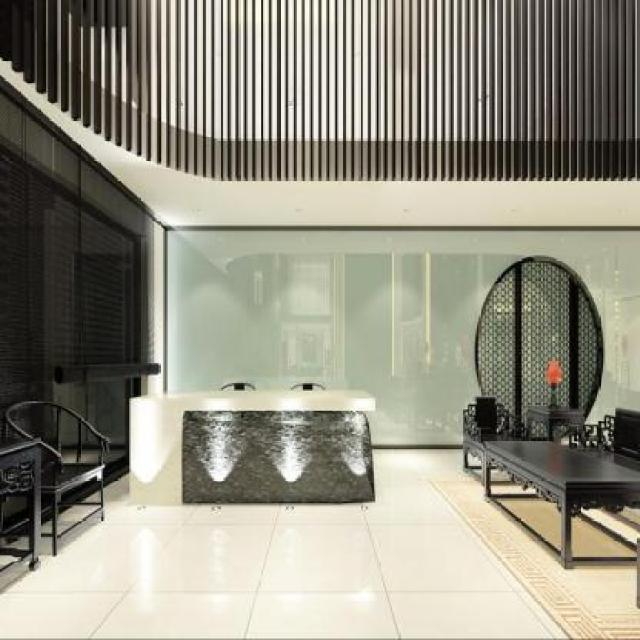frontdesk: (123, 376, 384, 538)
